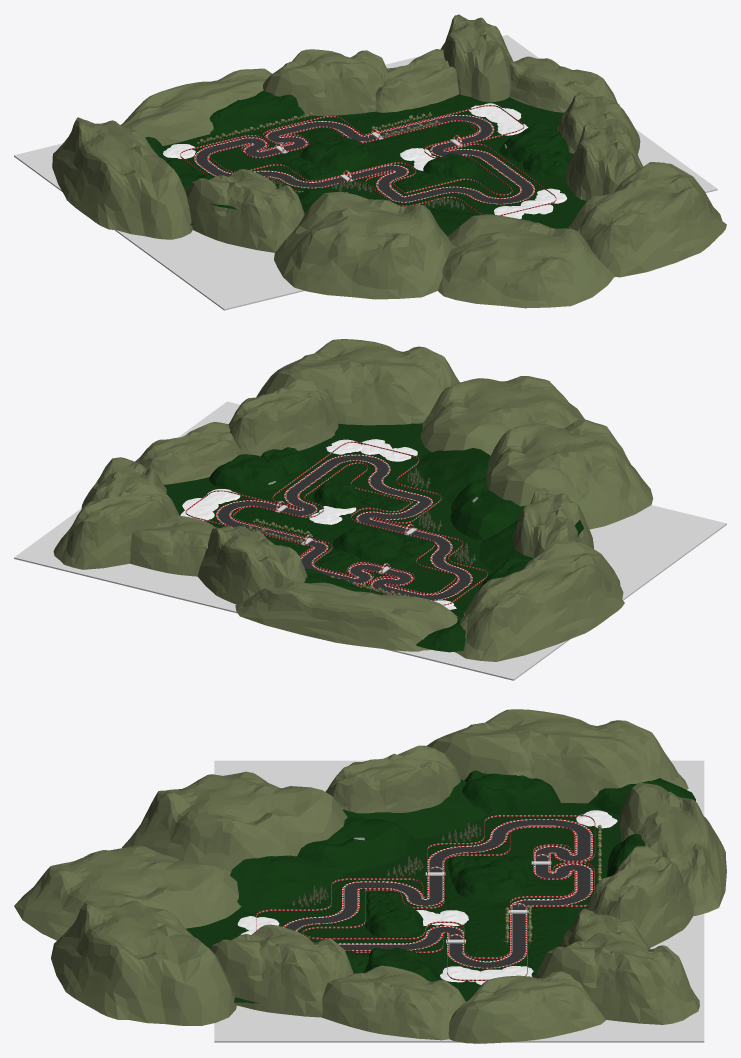
Rendered from drift-graphic.glb.
3 renders of one model, top to bottom at view 1: azimuth 30°, elevation 25°; view 2: azimuth 150°, elevation 25°; view 3: azimuth 270°, elevation 25°, orthographic. The views are drawn at different scales.
Parts seen in each view (by area): view 1: SM_Generic_Ground_04.008, SM_Generic_Ground_04.003, SM_Generic_Ground_04.011, SM_Generic_Ground_04.002, bottom, SM_Generic_Ground_04.009, SM_Generic_Ground_04.007, SM_Generic_Ground_04.012, SM_Generic_Ground_04.005, SM_Generic_Ground_04.001, SM_Generic_Ground_04.004, SM_Generic_Ground_04.006 (+17 smaller); view 2: bottom, SM_Generic_Ground_04.011, SM_Generic_Ground_04.008, SM_Generic_Ground_04.002, SM_Generic_Ground_04.012, SM_Generic_Ground_04.003, SM_Generic_Ground_04.005, SM_Generic_Ground_04.001, SM_Generic_Ground_04.007, SM_Generic_Ground_04.010, SM_Generic_Ground_04.006, SM_Generic_Ground_04.009 (+18 smaller); view 3: SM_Generic_Ground_04.002, SM_Generic_Ground_04.008, SM_Generic_Ground_04.011, bottom, SM_Generic_Ground_04.003, SM_Generic_Ground_04.005, SM_Generic_Ground_04.001, SM_Generic_Ground_04.004, SM_Generic_Ground_04.010, SM_Generic_Ground_04.012, SM_Generic_Ground_04.009, SM_Generic_Ground_04.007 (+34 smaller).
Part boxes in pixels (x1,y1,x2,y2): SM_Generic_Ground_04.008: (274, 191, 451, 299); SM_Generic_Ground_04.003: (438, 214, 614, 308); SM_Generic_Ground_04.011: (52, 117, 192, 239); SM_Generic_Ground_04.002: (567, 162, 726, 277); bottom: (14, 35, 717, 310); SM_Generic_Ground_04.009: (186, 169, 304, 252); SM_Generic_Ground_04.007: (263, 49, 388, 115); SM_Generic_Ground_04.012: (120, 68, 272, 145); SM_Generic_Ground_04.005: (441, 14, 513, 102); SM_Generic_Ground_04.001: (565, 122, 643, 201); SM_Generic_Ground_04.004: (509, 56, 617, 112); SM_Generic_Ground_04.006: (375, 49, 458, 112); bottom: (14, 401, 726, 680); SM_Generic_Ground_04.011: (455, 541, 624, 661); SM_Generic_Ground_04.008: (486, 419, 652, 529); SM_Generic_Ground_04.002: (256, 339, 459, 425); SM_Generic_Ground_04.012: (235, 582, 457, 651); SM_Generic_Ground_04.003: (420, 376, 584, 455); SM_Generic_Ground_04.005: (53, 482, 179, 569); SM_Generic_Ground_04.001: (228, 378, 338, 456); SM_Generic_Ground_04.007: (197, 525, 307, 604); SM_Generic_Ground_04.010: (135, 422, 242, 484); SM_Generic_Ground_04.006: (129, 515, 234, 576); SM_Generic_Ground_04.009: (512, 488, 593, 557); SM_Generic_Ground_04.002: (51, 900, 236, 1025); SM_Generic_Ground_04.008: (122, 771, 347, 874); SM_Generic_Ground_04.011: (427, 709, 688, 803); bottom: (214, 760, 704, 1042); SM_Generic_Ground_04.003: (14, 845, 241, 940); SM_Generic_Ground_04.005: (534, 931, 699, 1024); SM_Generic_Ground_04.001: (210, 924, 353, 1017); SM_Generic_Ground_04.004: (448, 971, 605, 1043); SM_Generic_Ground_04.010: (322, 965, 465, 1040); SM_Generic_Ground_04.012: (619, 782, 726, 915); SM_Generic_Ground_04.009: (325, 745, 461, 813); SM_Generic_Ground_04.007: (586, 846, 693, 947).
Bounding box in the file's own units: 493 × 53.54 × 509.
5 materials, 4 textured.
